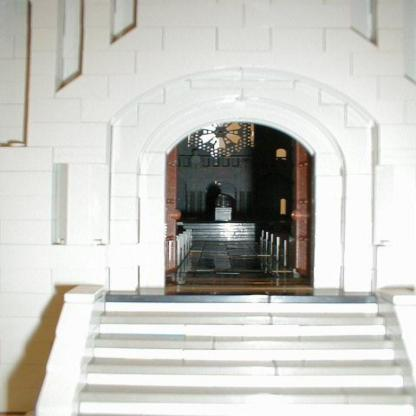stair: (101, 298, 386, 416)
